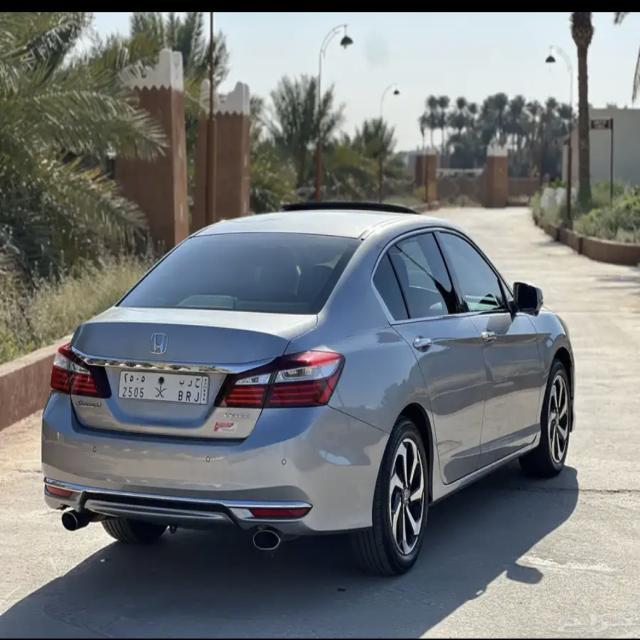license_plate: (120, 370, 210, 409)
